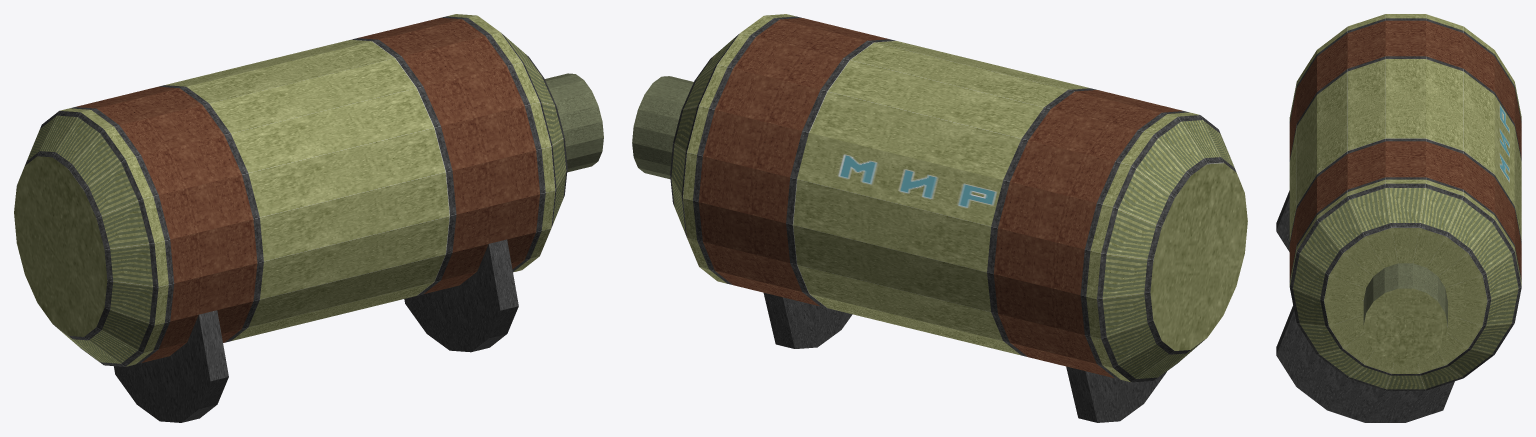
Rendered from Medium1.fbx.
3 renders of one model, left to right at view 1: azimuth 30°, elevation 25°; view 2: azimuth 150°, elevation 25°; view 3: azimuth 270°, elevation 25°, orthographic. The views are drawn at different scales.
Parts seen in each view (by area): view 1: Part_1; view 2: Part_1; view 3: Part_1.
Boxes of the visible parts, left/top/right/bottom form: Part_1: left=14, top=14, right=603, bottom=422; Part_1: left=632, top=14, right=1247, bottom=422; Part_1: left=1276, top=14, right=1521, bottom=422.
Bounding box in the file's own units: 85.87 × 46.53 × 40.11.
